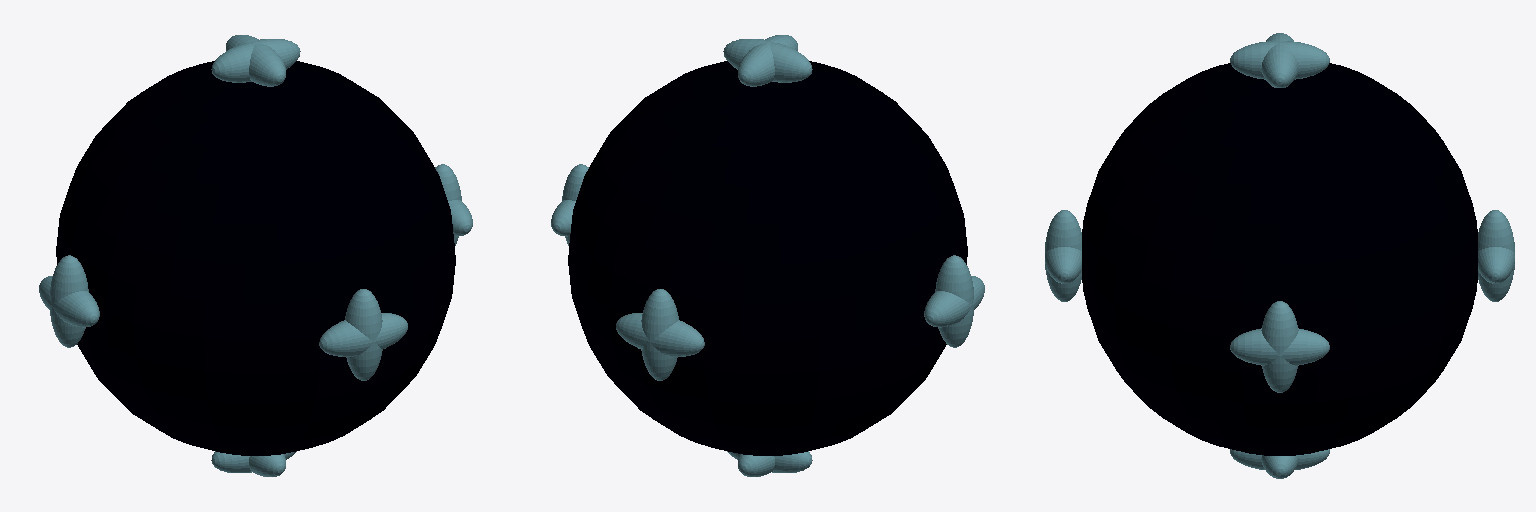
Rendered from sphereship.obj.
3 renders of one model, left to right at view 1: azimuth 30°, elevation 25°; view 2: azimuth 150°, elevation 25°; view 3: azimuth 270°, elevation 25°, orthographic.
Parts seen in each view (by area): view 1: Cockpit_Sphere.Cockpit, JetXZ_Sphere.JetXZ, JetZY_Sphere.JetZY, JetXY_Spheres.JetXY, JetYX_Sphere.JetYX, JetYZ_Sphere.JetYZ; view 2: Cockpit_Sphere.Cockpit, JetZX_Sphere.JetZX, JetZY_Sphere.JetZY, JetXY_Spheres.JetXY, JetYX_Sphere.JetYX, JetYZ_Sphere.JetYZ; view 3: Cockpit_Sphere.Cockpit, JetYZ_Sphere.JetYZ, JetXY_Spheres.JetXY, JetXZ_Sphere.JetXZ, JetZX_Sphere.JetZX, JetYX_Sphere.JetYX.
Boxes of the visible parts, box(x1,y1,x2,y2) form: Cockpit_Sphere.Cockpit: box(56, 61, 455, 455); JetXZ_Sphere.JetXZ: box(319, 289, 407, 380); JetZY_Sphere.JetZY: box(39, 255, 99, 347); JetXY_Spheres.JetXY: box(211, 35, 300, 86); JetYX_Sphere.JetYX: box(211, 451, 296, 476); JetYZ_Sphere.JetYZ: box(435, 164, 472, 245); Cockpit_Sphere.Cockpit: box(568, 61, 967, 455); JetZX_Sphere.JetZX: box(616, 289, 704, 380); JetZY_Sphere.JetZY: box(924, 255, 984, 347); JetXY_Spheres.JetXY: box(723, 35, 812, 86); JetYX_Sphere.JetYX: box(727, 451, 812, 476); JetYZ_Sphere.JetYZ: box(551, 164, 588, 245); Cockpit_Sphere.Cockpit: box(1082, 63, 1477, 455); JetYZ_Sphere.JetYZ: box(1230, 301, 1329, 392); JetXY_Spheres.JetXY: box(1230, 33, 1329, 87); JetXZ_Sphere.JetXZ: box(1045, 210, 1081, 301); JetZX_Sphere.JetZX: box(1478, 210, 1514, 301); JetYX_Sphere.JetYX: box(1230, 449, 1329, 478).
Bounding box in the file's own units: 2.35 × 2.35 × 2.35.